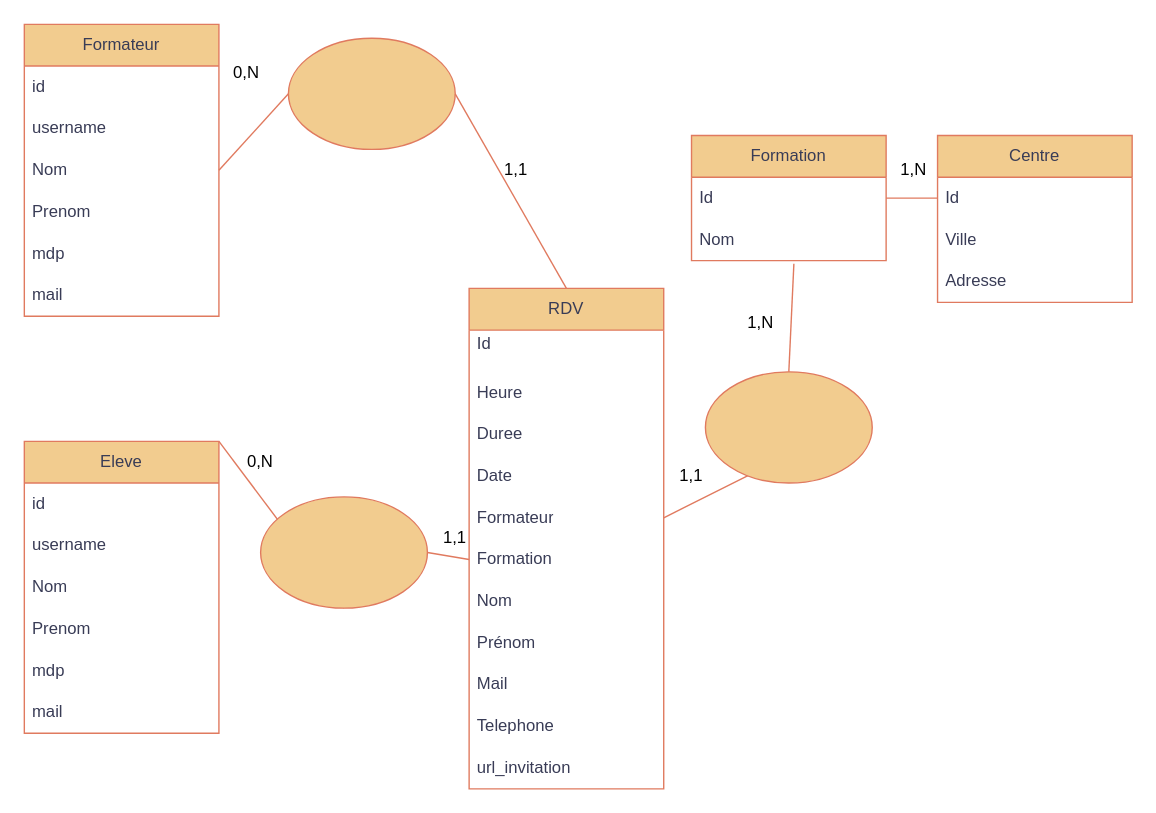
Image size: 1156x813. Some labels were removed from this diagram. The centre of each missing label's shape, as x and y in pixels:
"Créer id.formateur id.rdv" belongs at pixel 371 93.
"relié id.formation id.RDV" belongs at pixel 788 426.
"réserve id_formateur id_rdv id_eleve" belongs at pixel 343 552.
